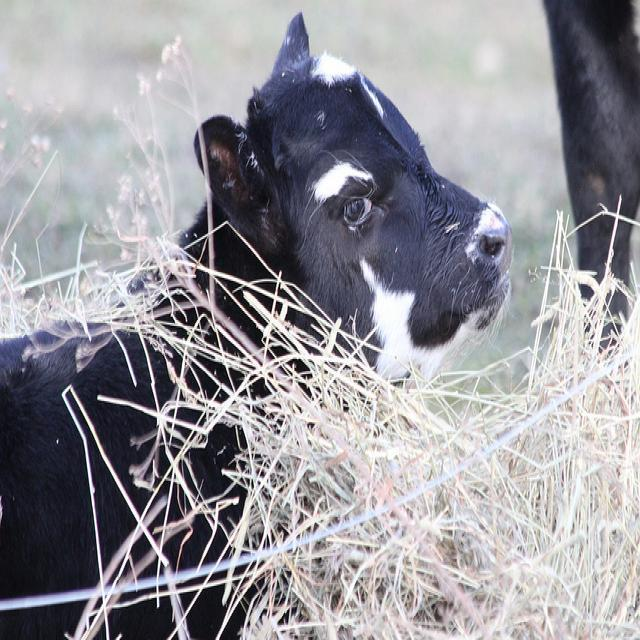cow: (0, 8, 514, 630), (544, 0, 633, 341)
